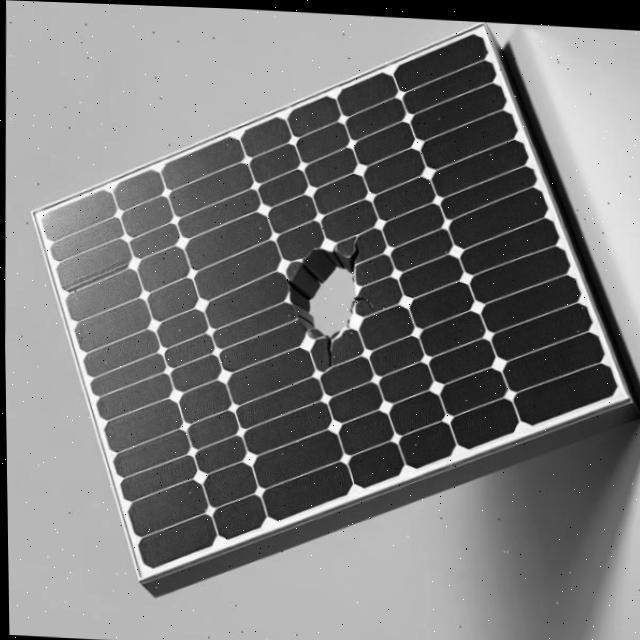Anomaly Solar Panel: (4, 18, 634, 575)
Structural Damage: (256, 213, 395, 370)
